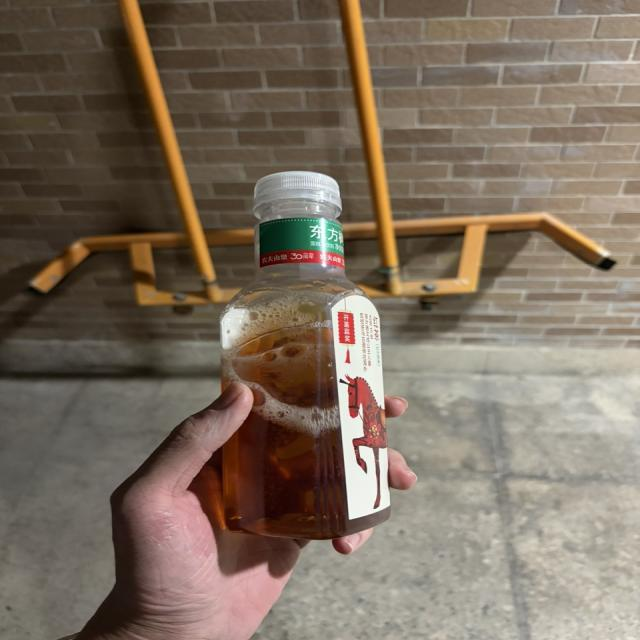medium: (221, 172, 391, 538)
